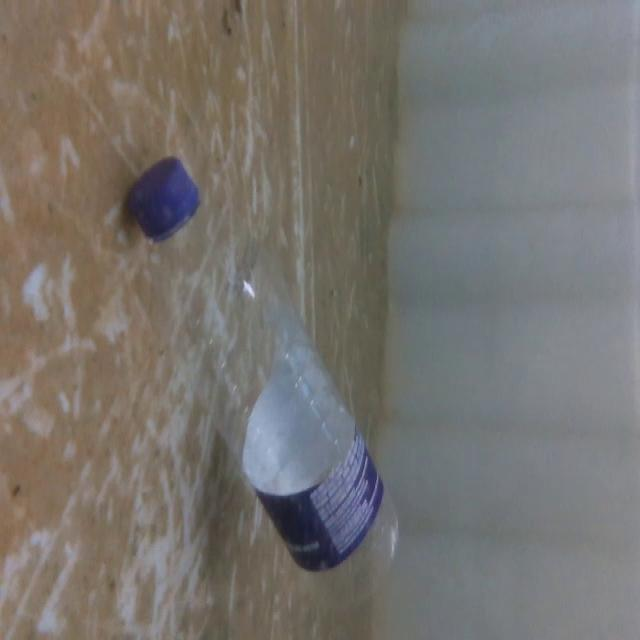plastic bottle: (131, 152, 423, 618)
